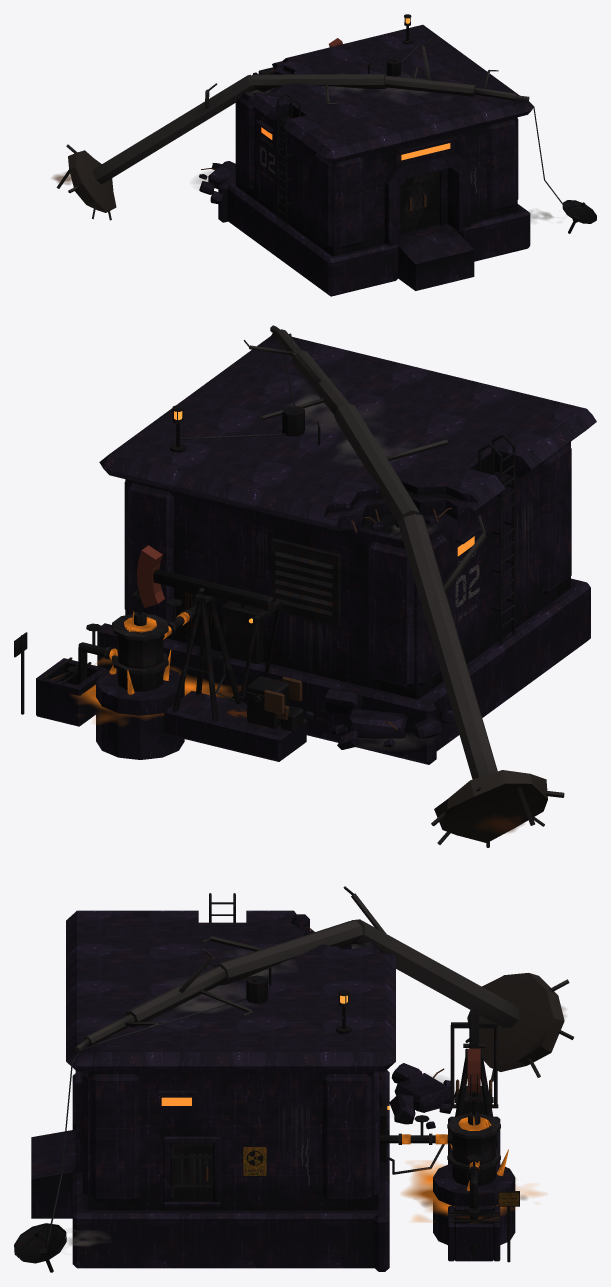
Rendered from outpost02_bunker.glb.
3 views of the same model, one above another, from view 1: azimuth 30°, elevation 25°; view 2: azimuth 150°, elevation 25°; view 3: azimuth 270°, elevation 25° (orthographic). The views are drawn at different scales.
Visible parts, largest first — view 1: bunker_shell, door_right, bunker_decals, door_left; view 2: bunker_shell, bunker_decals, pump_beam, bunker_liquid, pump_crank, pump_pitman; view 3: bunker_shell, bunker_decals, bunker_liquid, pump_beam, pump_pitman.
Part boxes in pixels (bbox=[...]): bunker_shell: bbox=[56, 14, 596, 296]; door_right: bbox=[414, 170, 439, 229]; bunker_decals: bbox=[52, 75, 553, 221]; door_left: bbox=[400, 175, 419, 233]; bunker_shell: bbox=[14, 325, 596, 847]; bunker_decals: bbox=[77, 394, 531, 833]; pump_beam: bbox=[137, 545, 282, 623]; bunker_liquid: bbox=[72, 611, 240, 723]; pump_crank: bbox=[239, 676, 302, 714]; pump_pitman: bbox=[240, 606, 280, 697]; bunker_shell: bbox=[14, 886, 573, 1272]; bunker_decals: bbox=[67, 943, 565, 1246]; bunker_liquid: bbox=[401, 1116, 543, 1222]; pump_beam: bbox=[451, 1011, 496, 1101]; pump_pitman: bbox=[450, 1025, 497, 1106].
Size of what is drawn, in the model's own units: 15.32 by 7.43 by 13.43.
Materials: 30 (21 with a texture image).
